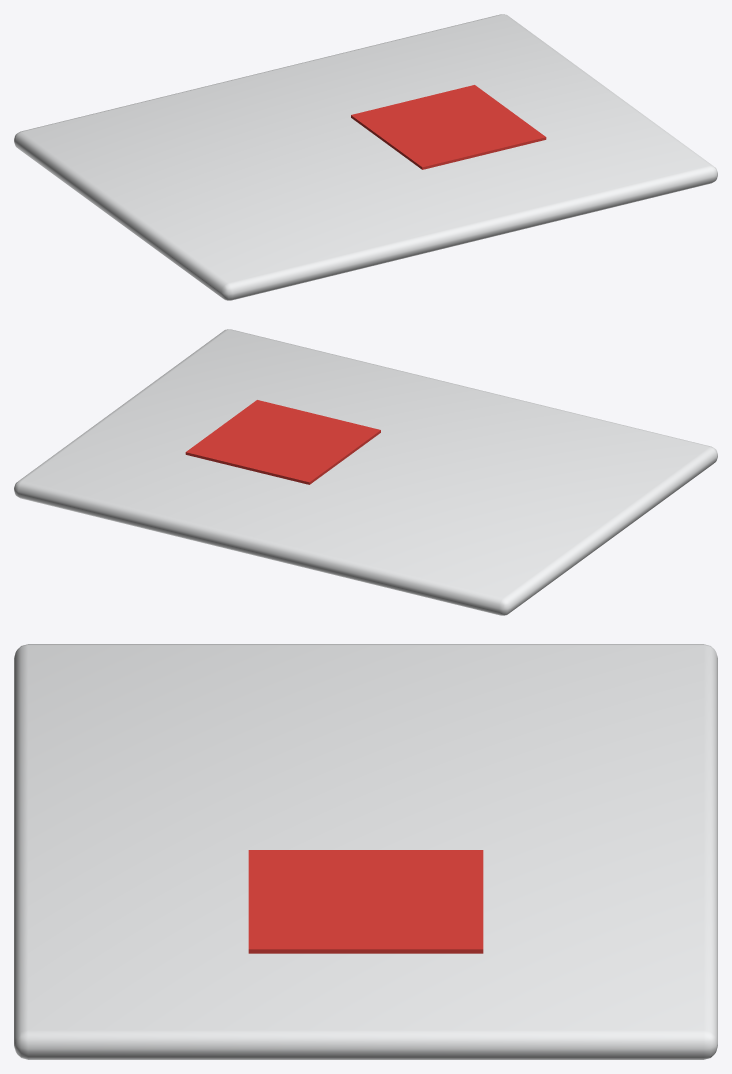
Rendered from electrode_defib.glb.
3 renders of one model, top to bottom at view 1: azimuth 30°, elevation 25°; view 2: azimuth 150°, elevation 25°; view 3: azimuth 270°, elevation 25°, orthographic. The views are drawn at different scales.
Visible parts, largest first — view 1: electrode_defib; view 2: electrode_defib; view 3: electrode_defib.
Boxes of the visible parts, x1,y1,x2,y2 form: electrode_defib: (14,14,717,300); electrode_defib: (14,329,717,615); electrode_defib: (14,644,717,1059).
Bounding box in the file's own units: 0.12 × 0.0056 × 0.09.
